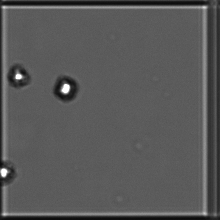Living Cell: (47, 68, 82, 108), (1, 154, 23, 192), (6, 63, 30, 91)
